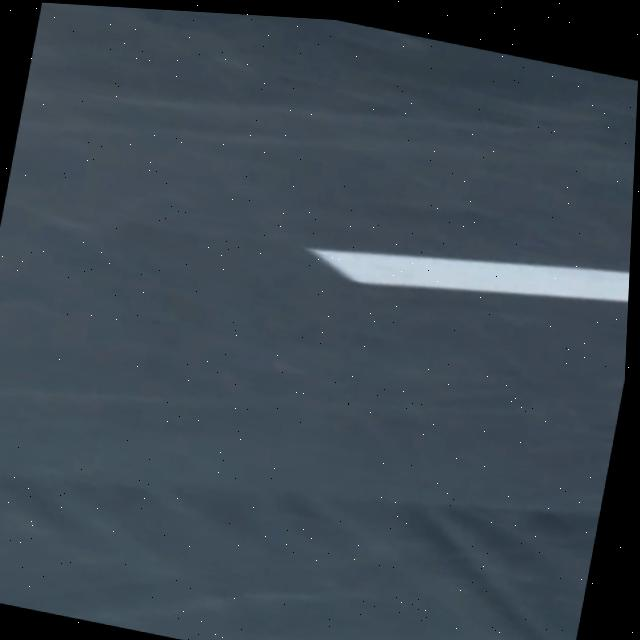center: (307, 249, 630, 302)
